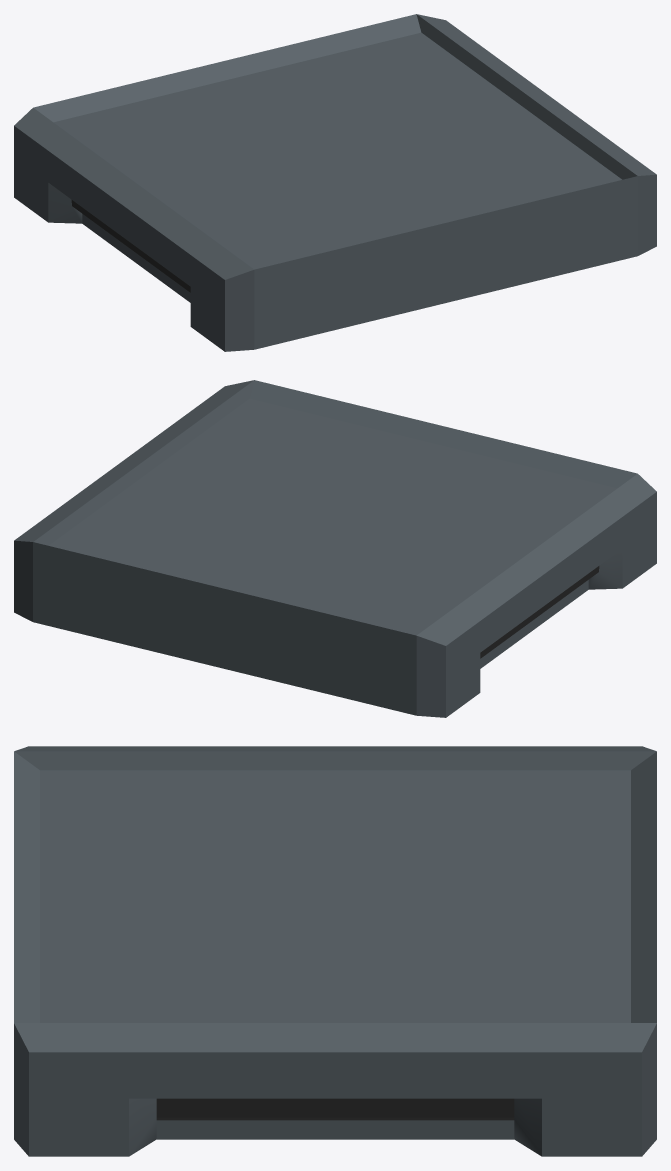
File: SM_Bld_Floor_Large_Walkway_02.fbx
3 views of the same model, one above another, from view 1: azimuth 30°, elevation 25°; view 2: azimuth 150°, elevation 25°; view 3: azimuth 270°, elevation 25° (orthographic). The views are drawn at different scales.
Parts seen in each view (by area): view 1: SM_Bld_Floor_Large_Walkway_02; view 2: SM_Bld_Floor_Large_Walkway_02; view 3: SM_Bld_Floor_Large_Walkway_02.
Boxes of the visible parts, x1=… form: SM_Bld_Floor_Large_Walkway_02: x1=14, y1=14, x2=656, y2=351; SM_Bld_Floor_Large_Walkway_02: x1=14, y1=380, x2=656, y2=717; SM_Bld_Floor_Large_Walkway_02: x1=14, y1=746, x2=656, y2=1156.
Bounding box in the file's own units: 564 × 99.94 × 500.
1 material, 1 textured.
